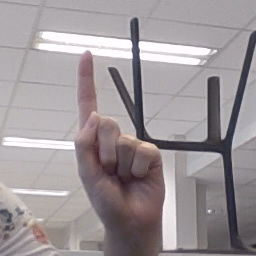F: (69, 51, 168, 218)
